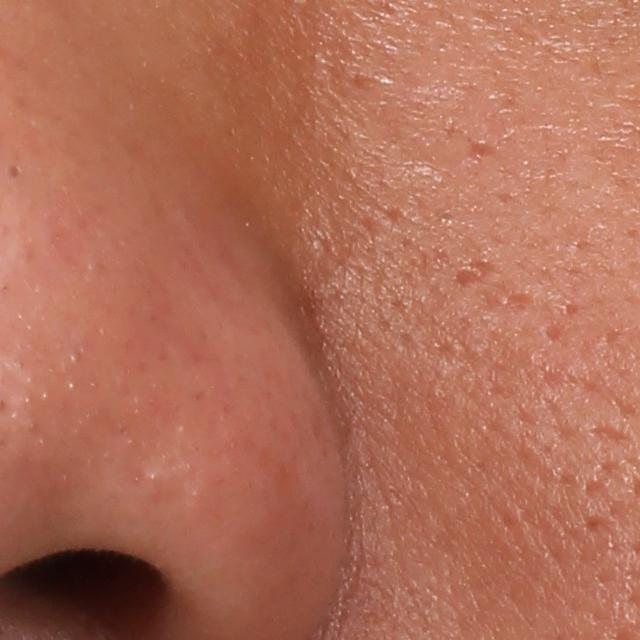atrophic_scar: (451, 257, 491, 289), (469, 139, 502, 161), (544, 319, 564, 343)
comedo: (3, 161, 28, 182)
